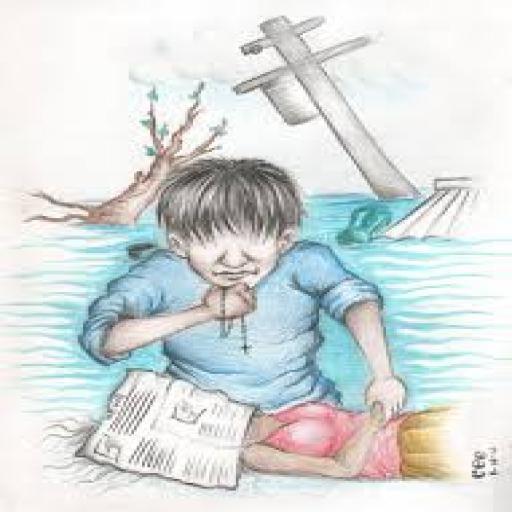person: (65, 150, 512, 491), (107, 364, 512, 494)
